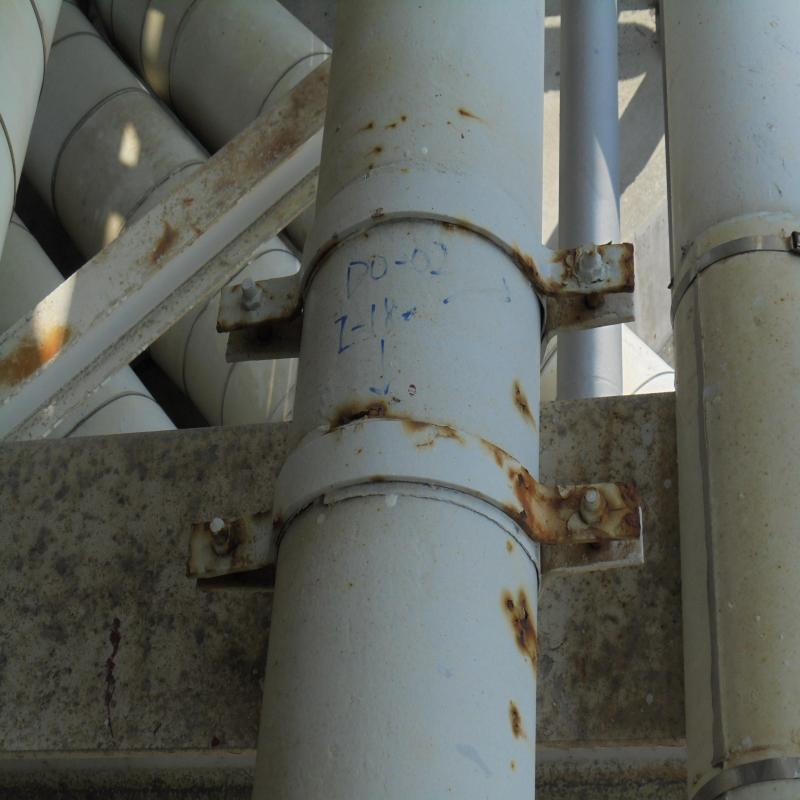corrosion: (327, 405, 389, 426)
